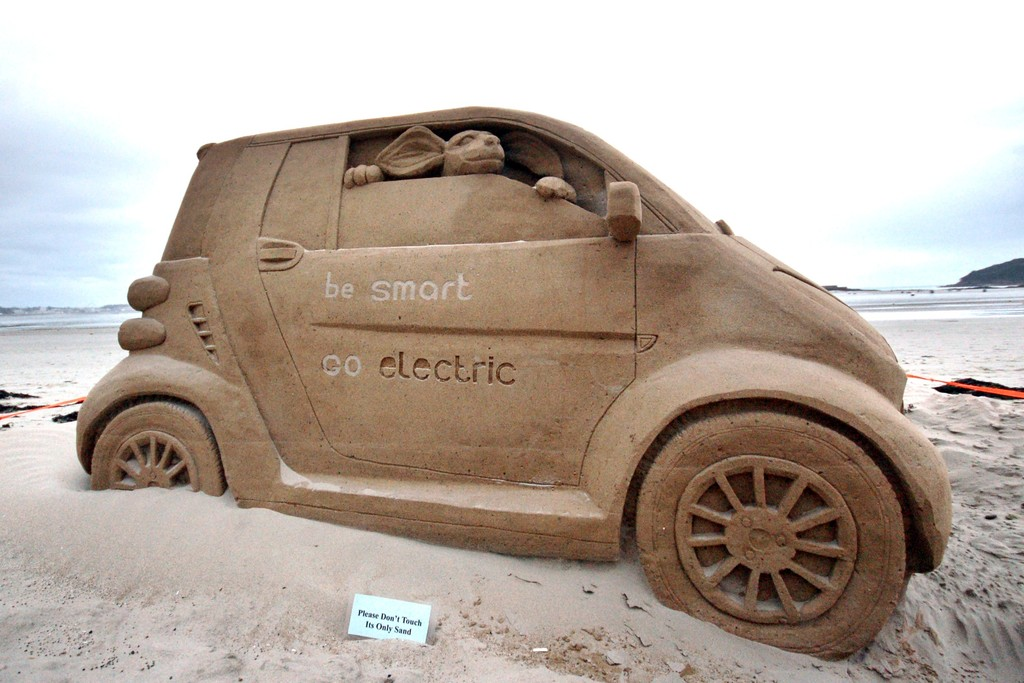Car: (71, 106, 954, 658)
